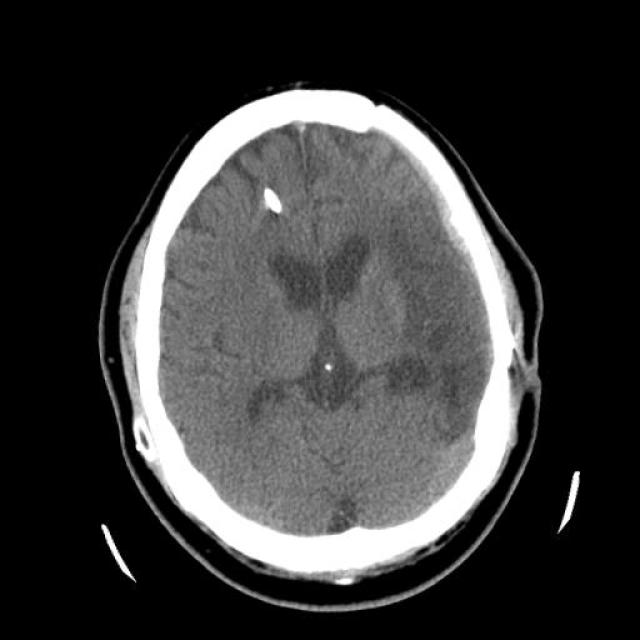Subdural: (352, 104, 514, 310)
